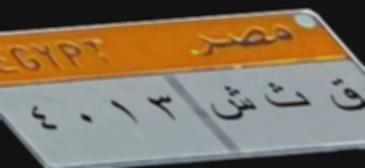0: (76, 108, 97, 132)
1: (108, 96, 139, 130)
3: (146, 91, 180, 123)
4: (27, 102, 60, 140)
qaaf: (326, 75, 364, 118)
sheen: (209, 80, 259, 129)
thaa: (262, 77, 312, 116)
